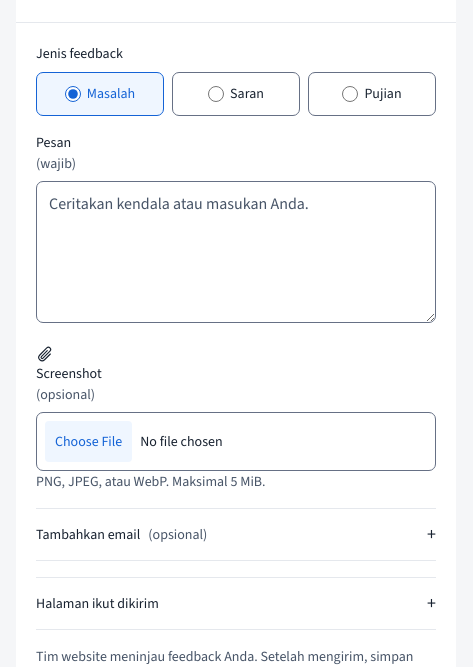
it: retries unchanged submissions with the same idempotency key and omits credentials
Type "Checkout broken" into the text box labelled "Pesan (wajib)" at {"x": 236, "y": 252}, box top-left (36, 181), bottom-right (436, 323)
(page scrolled)
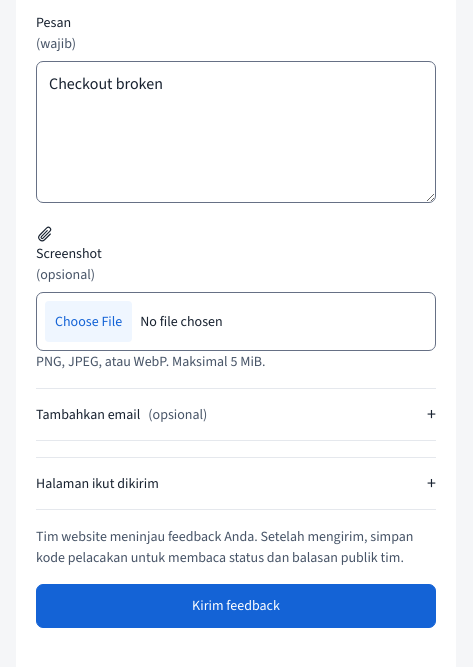
Click the button "Kirim feedback" at {"x": 236, "y": 606}, box top-left (36, 584), bottom-right (436, 628)
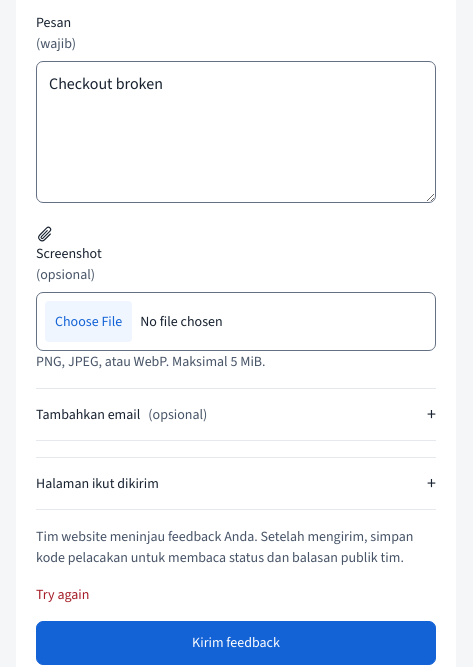
Expected: the message "Try again" is shown, top-left (36, 585), bottom-right (90, 604)
Click the button "Kirim feedback" at {"x": 236, "y": 643}, box top-left (36, 621), bottom-right (436, 665)
(page scrolled)
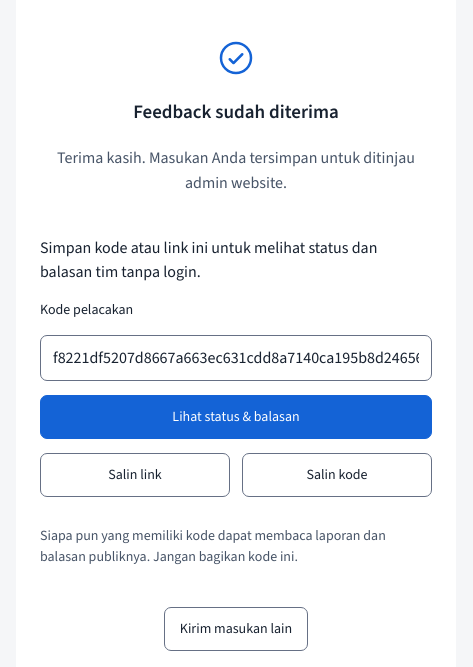
Expected: the heading "Feedback sudah diterima" is shown, top-left (133, 98), bottom-right (339, 126)
Click the button "Kirim masukan lain" at {"x": 236, "y": 629}, box top-left (164, 607), bottom-right (308, 651)
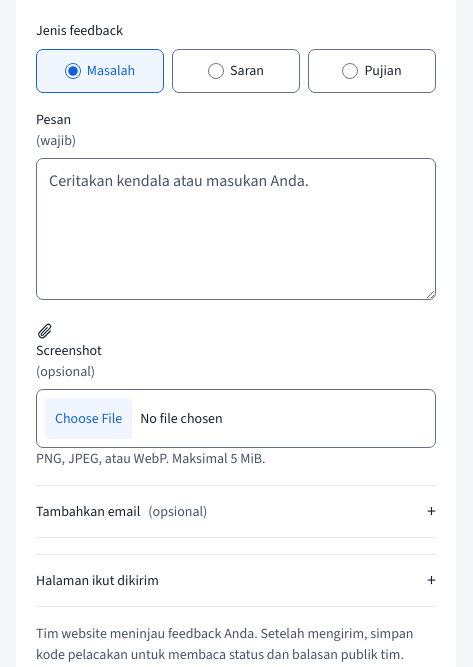
Expected: the text box labelled "Pesan (wajib)" is empty
Type "Checkout broken" into the text box labelled "Pesan (wajib)" at {"x": 236, "y": 229}, box top-left (36, 158), bottom-right (436, 300)
(page scrolled)
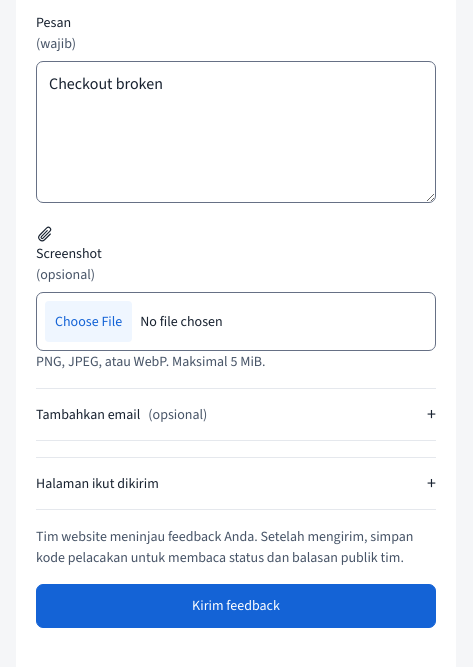
Click the button "Kirim feedback" at {"x": 236, "y": 606}, box top-left (36, 584), bottom-right (436, 628)
(page scrolled)
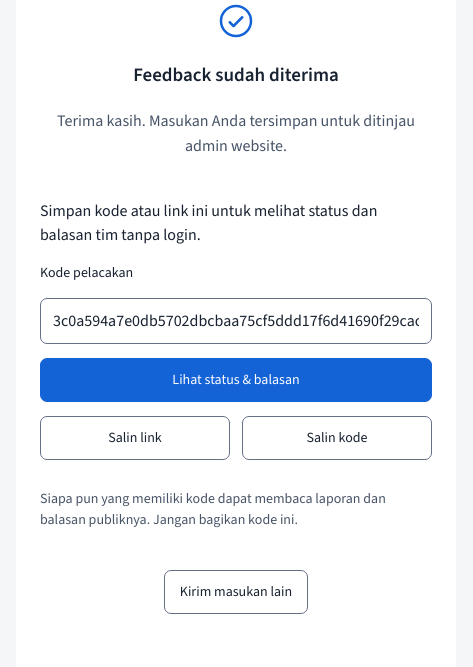
Expected: the heading "Feedback sudah diterima" is shown, top-left (133, 61), bottom-right (339, 89)
